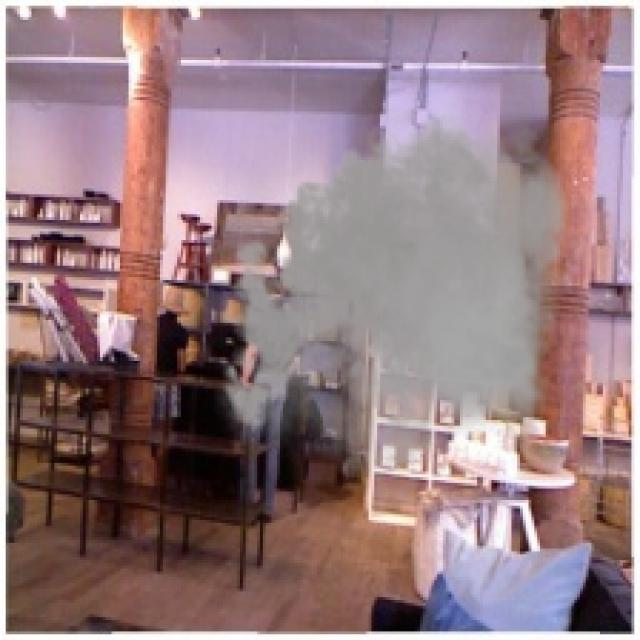smoke: (211, 97, 580, 492)
